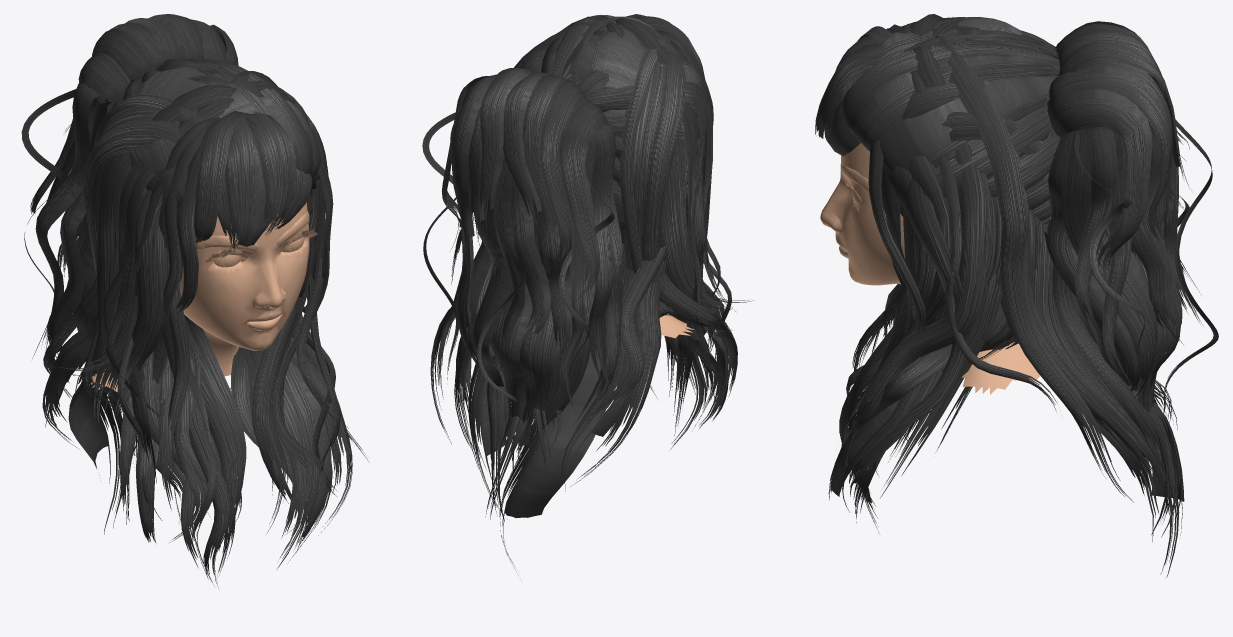
Rendered from townswoman-heads.glb.
3 views of the same model, side by side, from view 1: azimuth 30°, elevation 25°; view 2: azimuth 150°, elevation 25°; view 3: azimuth 270°, elevation 25° (orthographic). The views are drawn at different scales.
Parts seen in each view (by area): view 1: hair17, hair15, hair07, head; view 2: hair07, hair17, hair15, head; view 3: hair07, hair17, hair15, head.
Boxes of the visible parts, x1=… form: hair17: x1=42, y1=66, x2=352, y2=588; hair15: x1=45, y1=63, x2=369, y2=576; hair07: x1=21, y1=14, x2=326, y2=424; head: x1=89, y1=202, x2=317, y2=391; hair07: x1=422, y1=14, x2=708, y2=471; hair17: x1=430, y1=14, x2=737, y2=575; hair15: x1=543, y1=16, x2=754, y2=435; head: x1=659, y1=184, x2=694, y2=338; hair07: x1=842, y1=21, x2=1218, y2=455; hair17: x1=815, y1=14, x2=1184, y2=577; hair15: x1=846, y1=17, x2=1059, y2=533; head: x1=820, y1=143, x2=1040, y2=394.
Bounding box in the file's own units: 1.26 × 2.27 × 1.36.
Materials: 2 (1 with a texture image).
